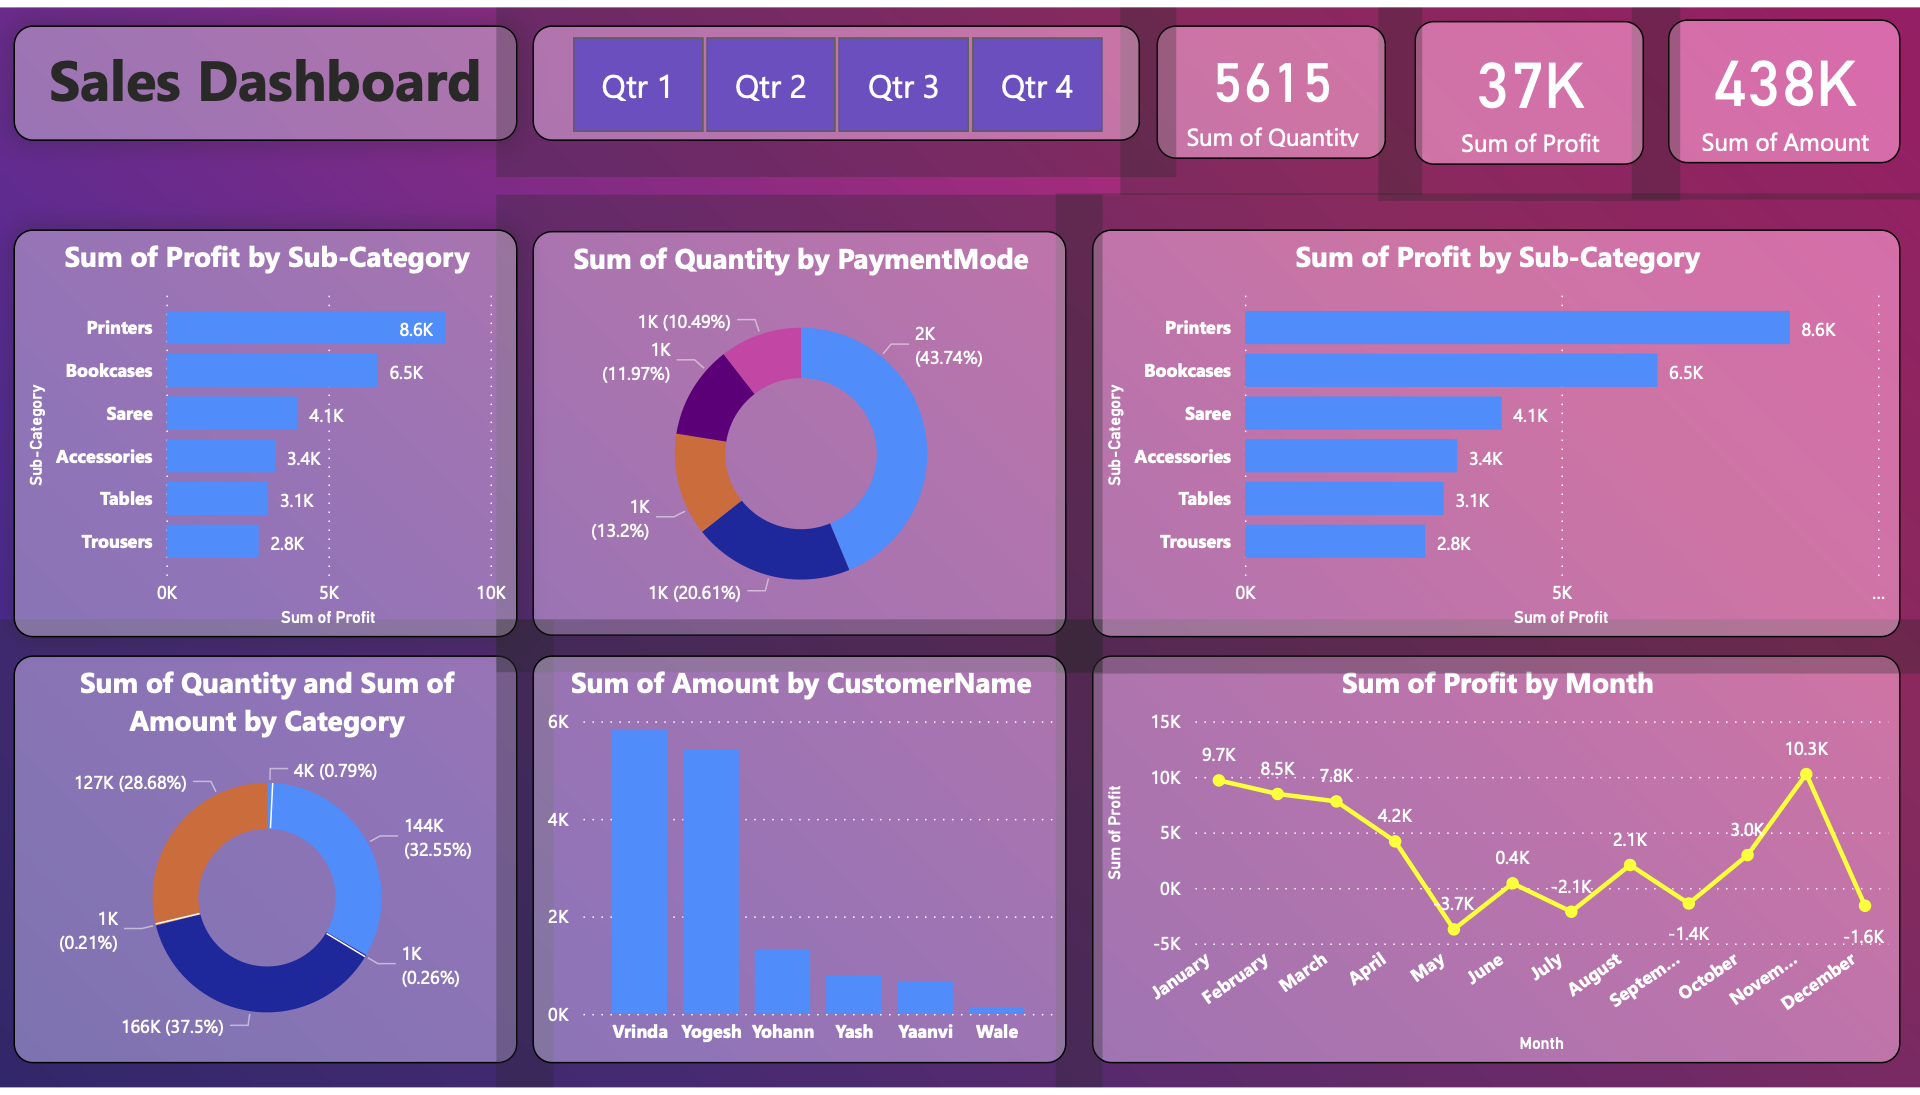

Layout of this report page (visuals, bound fields, positions):
{"tool":"powerbi","page":{"name":"Page 1","canvas":[1280,720],"ordinal":0},"visuals":[{"type":"textbox","box":[9.4,12.1,336.3,76.7],"z":0},{"type":"lineChart","fields":{"Category":["Orders.Order Date.Variation.Date Hierarchy.Month"],"Y":["Sum(Details.Profit)"]},"box":[727.7,431.8,539.4,271.7],"z":1000},{"type":"barChart","fields":{"Y":["Sum(Details.Profit)"],"Category":["Details.Sub-Category"]},"box":[727.7,148,539.4,271.7],"z":2000},{"type":"donutChart","fields":{"Y":["Sum(Details.Quantity)","Sum(Details.Amount)"],"Category":["Details.Category"]},"box":[9.4,431.8,336.3,271.7],"z":3000},{"type":"donutChart","fields":{"Y":["Sum(Details.Quantity)"],"Category":["Details.PaymentMode"]},"box":[355.1,149.3,356.4,270.4],"z":4000},{"type":"card","fields":{"Values":["Sum(Details.Amount)"]},"box":[1112.4,8.1,154.7,95.5],"z":5000},{"type":"card","fields":{"Values":["Sum(Details.Profit)"]},"box":[942.9,9.4,153.3,95.5],"z":6000},{"type":"card","fields":{"Values":["Sum(Details.Quantity)"]},"box":[770.7,12.1,153.3,88.8],"z":7000},{"type":"barChart","fields":{"Y":["Sum(Details.Profit)"],"Category":["Details.Sub-Category"]},"box":[9.4,148,336.3,271.7],"z":8000},{"type":"lineStackedColumnComboChart","fields":{"Category":["Orders.CustomerName"],"Y":["Sum(Details.Amount)"]},"box":[355.1,431.8,356.4,271.7],"z":9000},{"type":"slicer","fields":{"Values":["Orders.Order Date.Variation.Date Hierarchy.Quarter"]},"box":[355.1,12.1,404.9,76.7],"z":9001}]}

Visuals, with their boxes in screenshot pixels (x1, y1, x2, y2), scaled from the page's 1280x720 canvas onto the 1920x1095 screenshot:
textbox: (14,18,519,135)
lineChart - Orders.Order Date.Variation.Date Hierarchy.Month x Sum(Details.Profit): (1092,657,1901,1070)
barChart - Sum(Details.Profit) x Details.Sub-Category: (1092,225,1901,638)
donutChart - Sum(Details.Quantity) x Sum(Details.Amount): (14,657,519,1070)
donutChart - Sum(Details.Quantity) x Details.PaymentMode: (533,227,1067,638)
card - Sum(Details.Amount): (1669,12,1901,158)
card - Sum(Details.Profit): (1414,14,1644,160)
card - Sum(Details.Quantity): (1156,18,1386,153)
barChart - Sum(Details.Profit) x Details.Sub-Category: (14,225,519,638)
lineStackedColumnComboChart - Orders.CustomerName x Sum(Details.Amount): (533,657,1067,1070)
slicer - Orders.Order Date.Variation.Date Hierarchy.Quarter: (533,18,1140,135)
